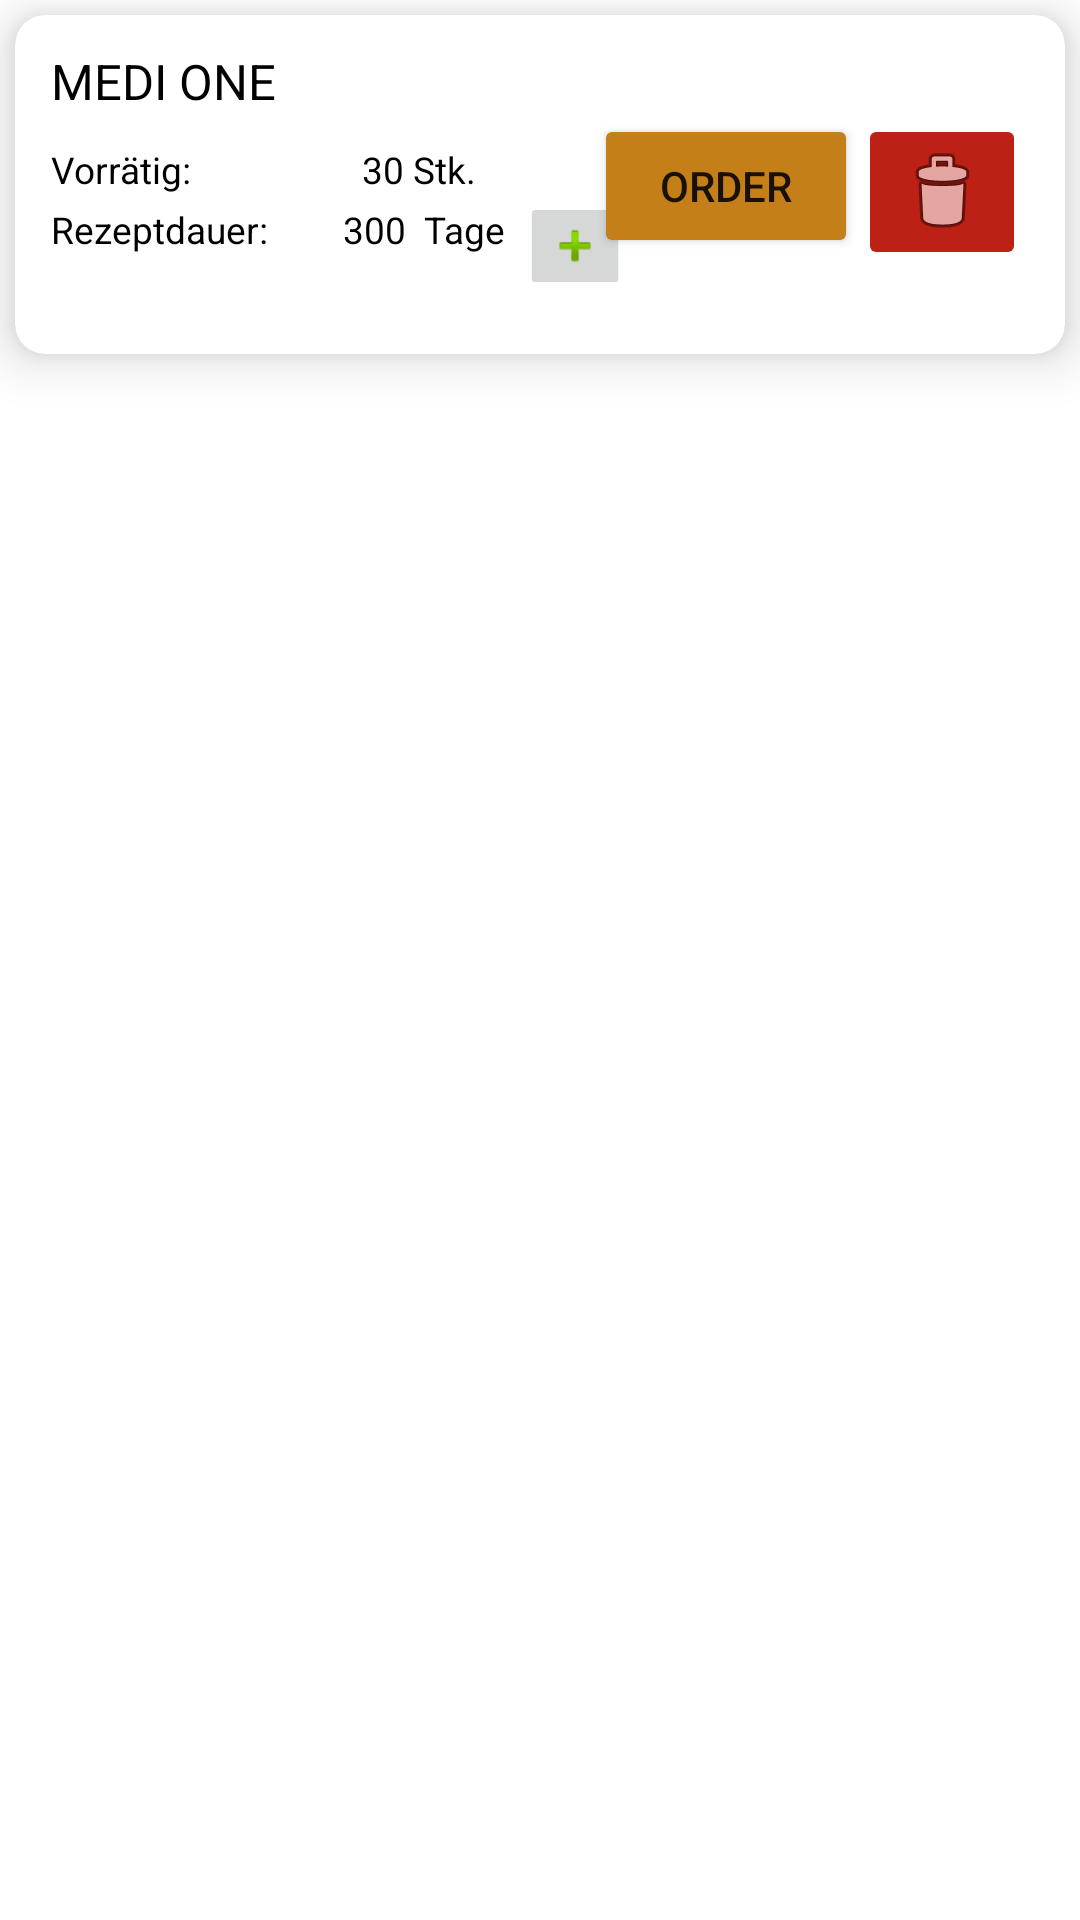

Locate icon controls on the screen. Image size 1080×1920, boxes as detection(x1, y1, x2, y2).
delete med: detection(870, 132, 1014, 252)
